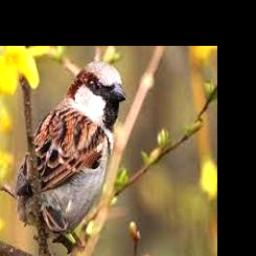Sparrow: (16, 61, 127, 251)
